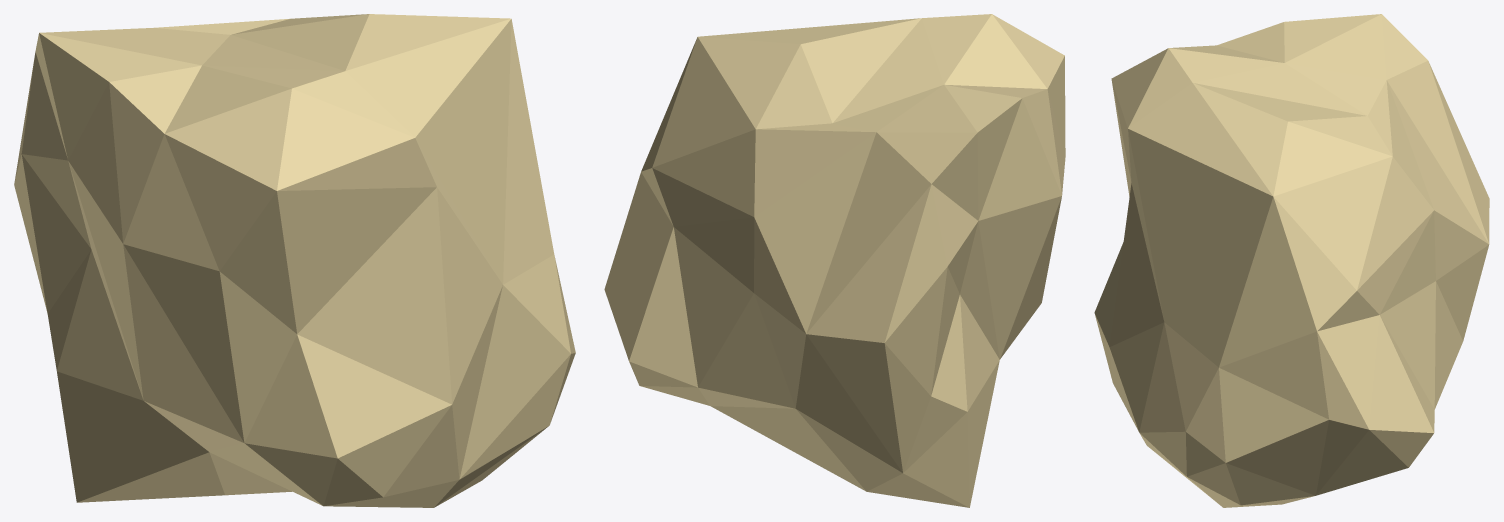
The model's file is Rock (61).fbx.
3 views of the same model, side by side, from view 1: azimuth 30°, elevation 25°; view 2: azimuth 150°, elevation 25°; view 3: azimuth 270°, elevation 25° (orthographic). The views are drawn at different scales.
Visible parts, largest first — view 1: Asteroid60; view 2: Asteroid60; view 3: Asteroid60.
Boxes of the visible parts, x1,y1,x2,y2 form: Asteroid60: (14, 14, 575, 507); Asteroid60: (604, 14, 1065, 507); Asteroid60: (1094, 14, 1489, 507).
Bounding box in the file's own units: 146 × 146 × 136.
